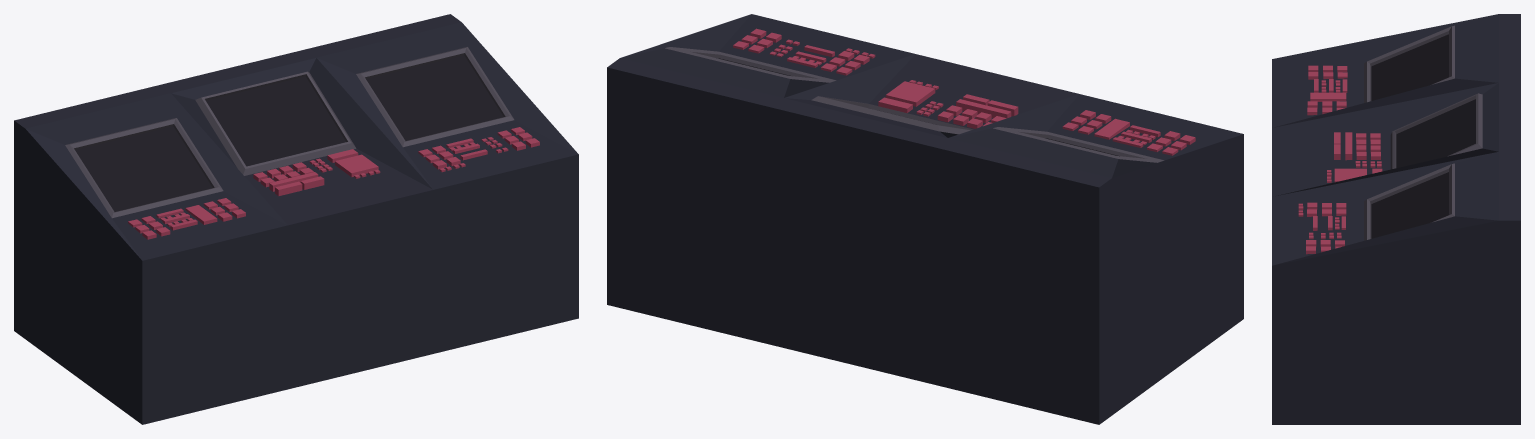
Rendered from controlpanel.fbx.
3 views of the same model, side by side, from view 1: azimuth 30°, elevation 25°; view 2: azimuth 150°, elevation 25°; view 3: azimuth 270°, elevation 25° (orthographic). The views are drawn at different scales.
Parts seen in each view (by area): view 1: ConrolPanelCenter; view 2: ConrolPanelCenter; view 3: ConrolPanelCenter.
Boxes of the visible parts, x1=… form: ConrolPanelCenter: x1=14, y1=14, x2=578, y2=424; ConrolPanelCenter: x1=607, y1=14, x2=1243, y2=424; ConrolPanelCenter: x1=1272, y1=14, x2=1520, y2=424.
Bounding box in the file's own units: 343 × 158 × 175.
